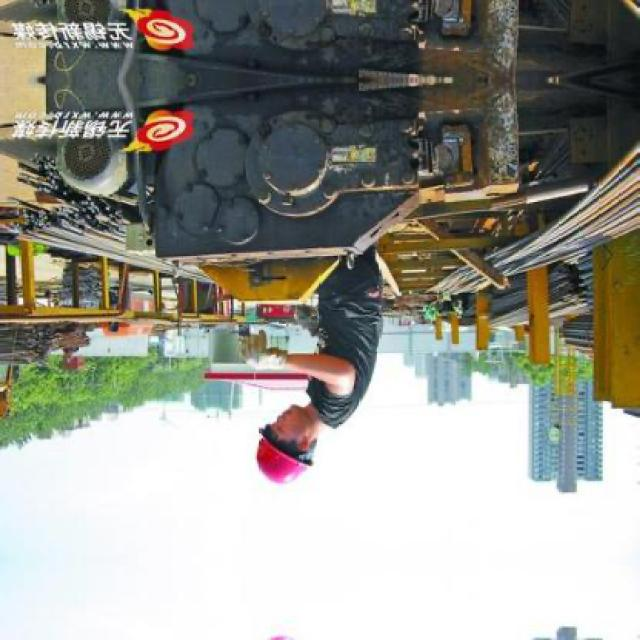con casco: (241, 389, 393, 495)
